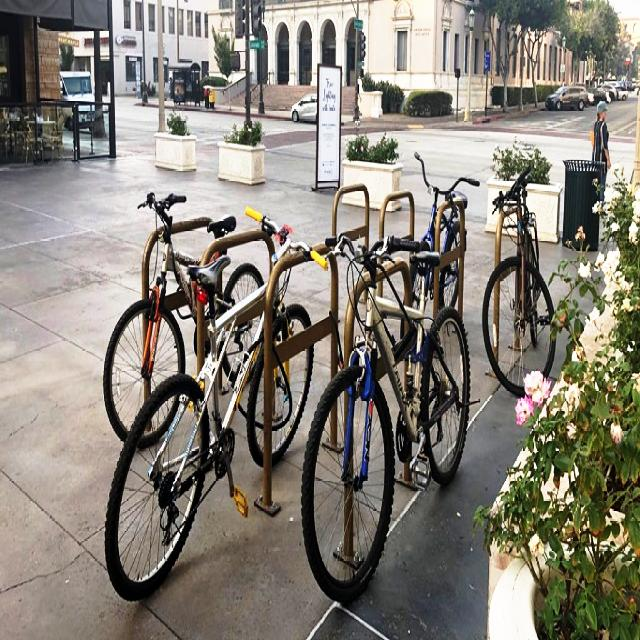bike: (104, 207, 328, 603), (301, 235, 471, 604), (102, 192, 266, 448), (482, 164, 556, 399), (400, 152, 480, 347)
